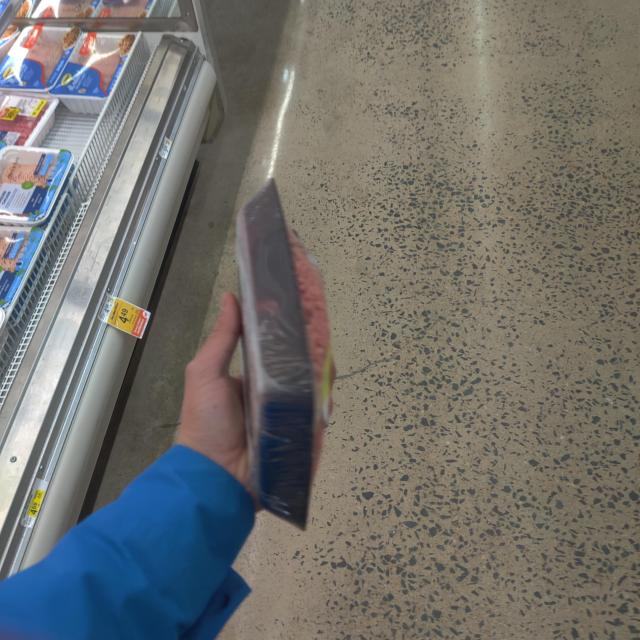Meat: (222, 179, 342, 538), (58, 34, 142, 110), (0, 146, 76, 222), (0, 24, 81, 94), (0, 93, 60, 150)
